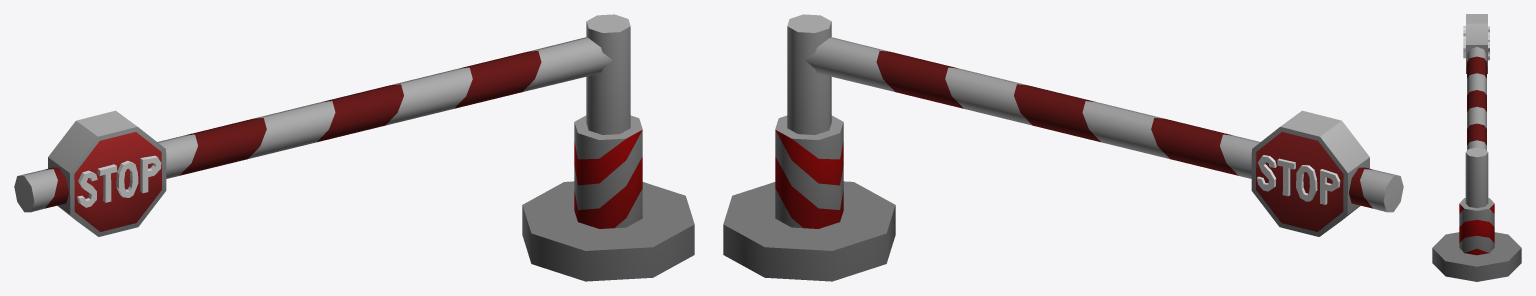
Rendered from SM_Barrier.fbx.
3 renders of one model, left to right at view 1: azimuth 30°, elevation 25°; view 2: azimuth 150°, elevation 25°; view 3: azimuth 270°, elevation 25°, orthographic. The views are drawn at different scales.
Visible parts, largest first — view 1: SM_Barrier.001; view 2: SM_Barrier.001; view 3: SM_Barrier.001.
Boxes of the visible parts, x1,y1,x2,y2 form: SM_Barrier.001: (14,14,694,281); SM_Barrier.001: (723,14,1403,281); SM_Barrier.001: (1432,14,1521,281).
Size of the model in its own units: 380 by 134 by 88.7.
